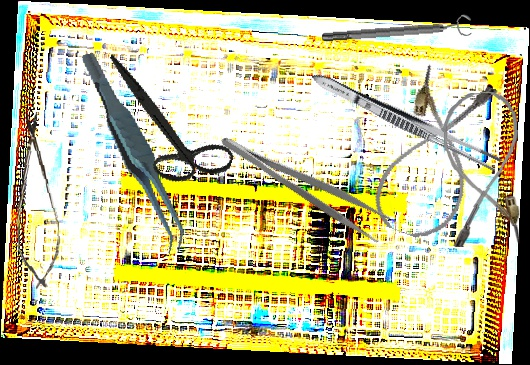Cannula: (365, 62, 504, 249), (441, 90, 524, 248)
Dressing Forceps: (217, 118, 394, 247), (308, 68, 505, 174)
Fixation Ring: (321, 13, 473, 49)
Iris Scissors: (79, 53, 253, 198)
Micro Scissor: (8, 109, 64, 293)
Tissue Forceps: (80, 41, 189, 264)
